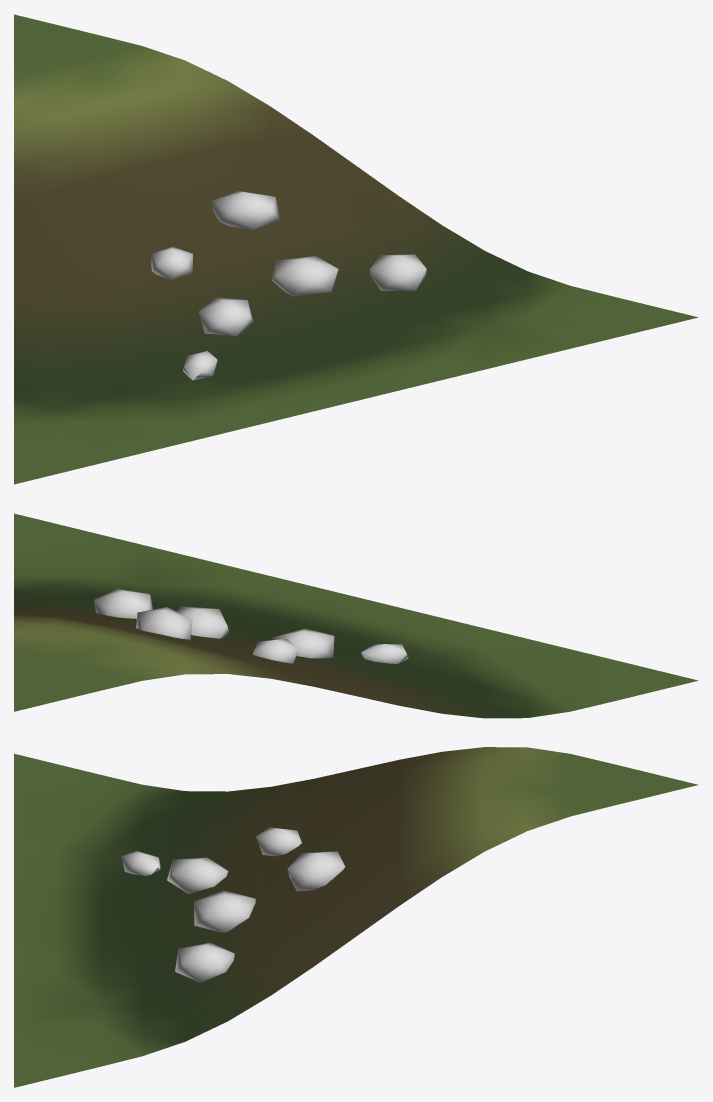
The model's file is MODULE_RAMP_CORNER_ROCKS.fbx.
3 renders of one model, top to bottom at view 1: azimuth 30°, elevation 25°; view 2: azimuth 150°, elevation 25°; view 3: azimuth 270°, elevation 25°, orthographic.
Parts seen in each view (by area): view 1: MODULE_RAMP_CORNER_ROCKS__export, MODULE_RAMP_CORNER_ROCKS_DECOR__export; view 2: MODULE_RAMP_CORNER_ROCKS__export, MODULE_RAMP_CORNER_ROCKS_DECOR__export; view 3: MODULE_RAMP_CORNER_ROCKS__export, MODULE_RAMP_CORNER_ROCKS_DECOR__export.
Boxes of the visible parts, x1,y1,x2,y2 form: MODULE_RAMP_CORNER_ROCKS__export: [14, 14, 698, 484]; MODULE_RAMP_CORNER_ROCKS_DECOR__export: [151, 191, 426, 380]; MODULE_RAMP_CORNER_ROCKS__export: [14, 513, 698, 718]; MODULE_RAMP_CORNER_ROCKS_DECOR__export: [93, 588, 408, 663]; MODULE_RAMP_CORNER_ROCKS__export: [14, 747, 698, 1087]; MODULE_RAMP_CORNER_ROCKS_DECOR__export: [121, 827, 345, 982].
Size of the model in its own units: 100 by 18.99 by 86.6.
